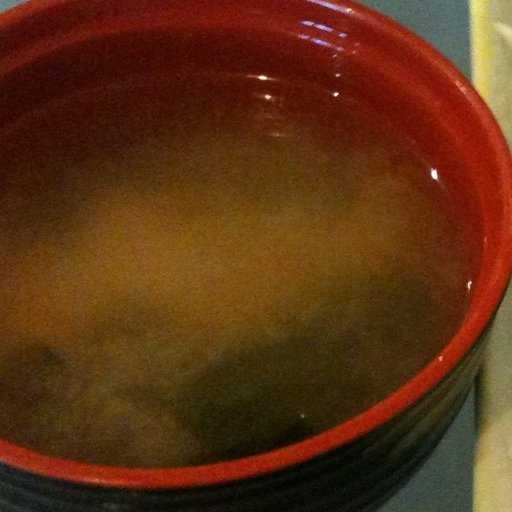soup: (3, 29, 489, 480)
